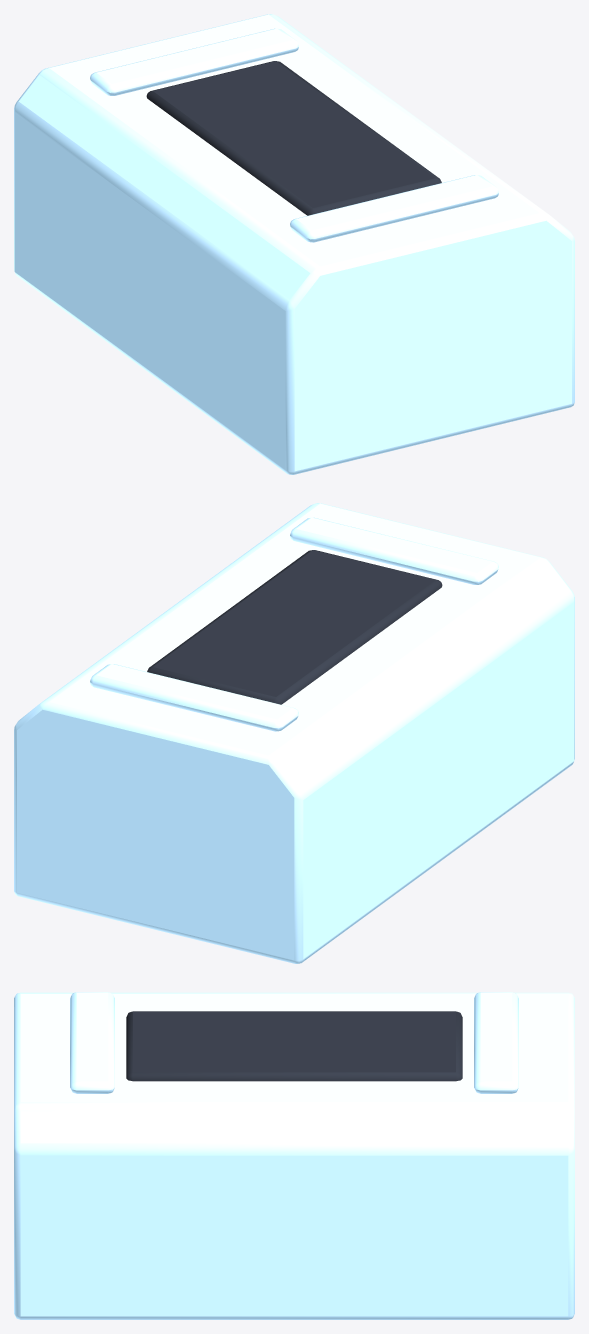
File: ware_eisblock.fbx
3 views of the same model, one above another, from view 1: azimuth 30°, elevation 25°; view 2: azimuth 150°, elevation 25°; view 3: azimuth 270°, elevation 25° (orthographic).
Visible parts, largest first — view 1: ware_eisblock_Koerper; view 2: ware_eisblock_Koerper; view 3: ware_eisblock_Koerper.
Part boxes in pixels (<box>): ware_eisblock_Koerper: <box>14,14,574,474</box>; ware_eisblock_Koerper: <box>14,503,574,963</box>; ware_eisblock_Koerper: <box>14,992,574,1319</box>.
Size of the model in its own units: 0.3 by 0.211 by 0.5.
